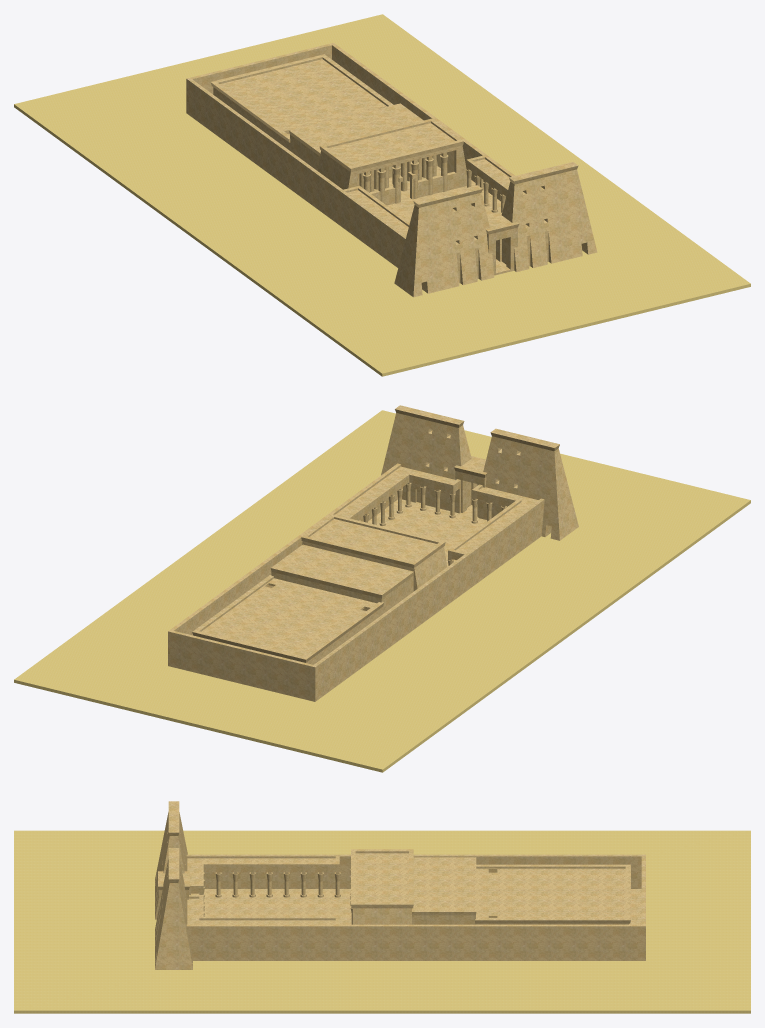
The model's file is assets.obj.
3 renders of one model, top to bottom at view 1: azimuth 30°, elevation 25°; view 2: azimuth 150°, elevation 25°; view 3: azimuth 270°, elevation 25°, orthographic.
Visible parts, largest first — view 1: Mesh2 Group2 Model, Mesh1 Group1 Model; view 2: Mesh2 Group2 Model, Mesh1 Group1 Model; view 3: Mesh2 Group2 Model, Mesh1 Group1 Model.
Part boxes in pixels (x1=…): Mesh2 Group2 Model: x1=14, y1=14, x2=750, y2=376; Mesh1 Group1 Model: x1=186, y1=43, x2=597, y2=297; Mesh2 Group2 Model: x1=14, y1=410, x2=750, y2=772; Mesh1 Group1 Model: x1=168, y1=405, x2=578, y2=701; Mesh2 Group2 Model: x1=14, y1=830, x2=750, y2=1013; Mesh1 Group1 Model: x1=155, y1=801, x2=645, y2=969.
Size of the model in its own units: 137 by 31.26 by 238.
